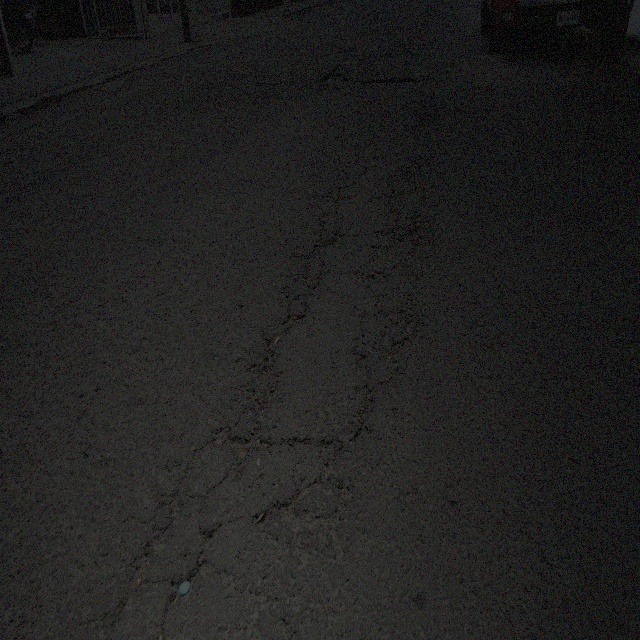pothole: (220, 422, 272, 468), (195, 526, 220, 569), (362, 74, 417, 88), (320, 69, 350, 85), (388, 50, 418, 60)
